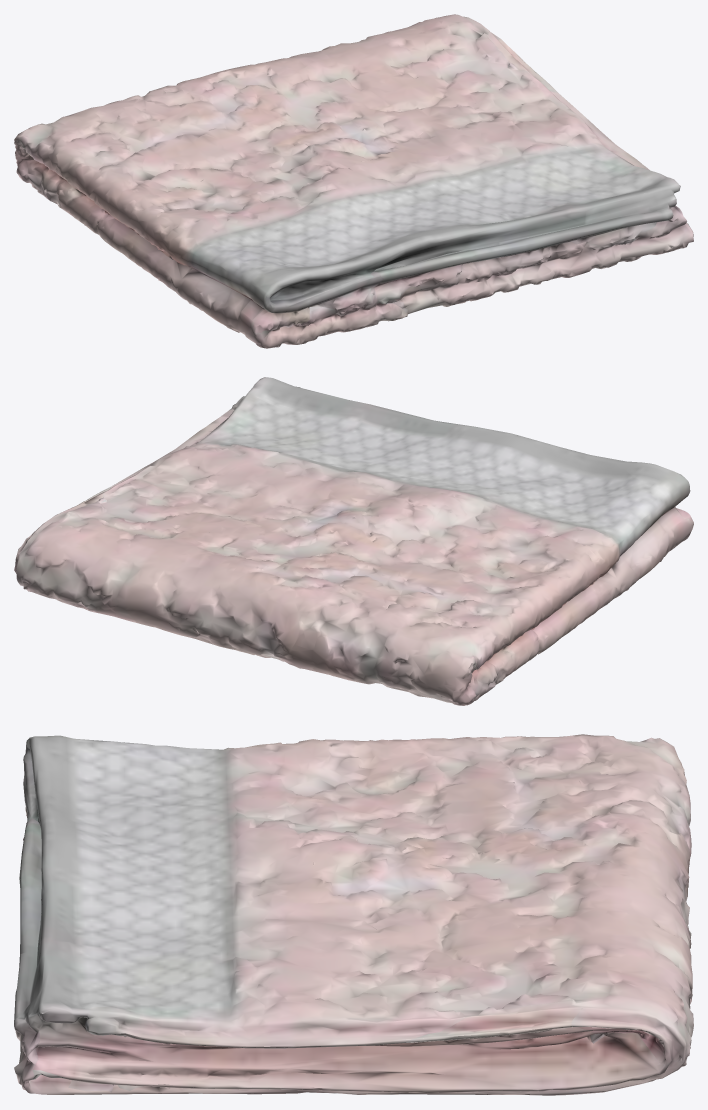
The model's file is Threshold_Textured_Damask_Bath_Towel_Pink-high.glb.
The picture shows the model from 3 angles, top to bottom: view 1: azimuth 30°, elevation 25°; view 2: azimuth 150°, elevation 25°; view 3: azimuth 270°, elevation 25°; orthographic projection. The views are drawn at different scales.
Visible parts, largest first — view 1: Threshold_Textured_Damask_Bath_Towel_Pink; view 2: Threshold_Textured_Damask_Bath_Towel_Pink; view 3: Threshold_Textured_Damask_Bath_Towel_Pink.
Part boxes in pixels (<box>): Threshold_Textured_Damask_Bath_Towel_Pink: <box>14,14,693,348</box>; Threshold_Textured_Damask_Bath_Towel_Pink: <box>14,377,693,705</box>; Threshold_Textured_Damask_Bath_Towel_Pink: <box>14,734,693,1095</box>.
Size of the model in its own units: 0.3564 by 0.0574 by 0.3401.
Materials: 1 (1 with a texture image).
